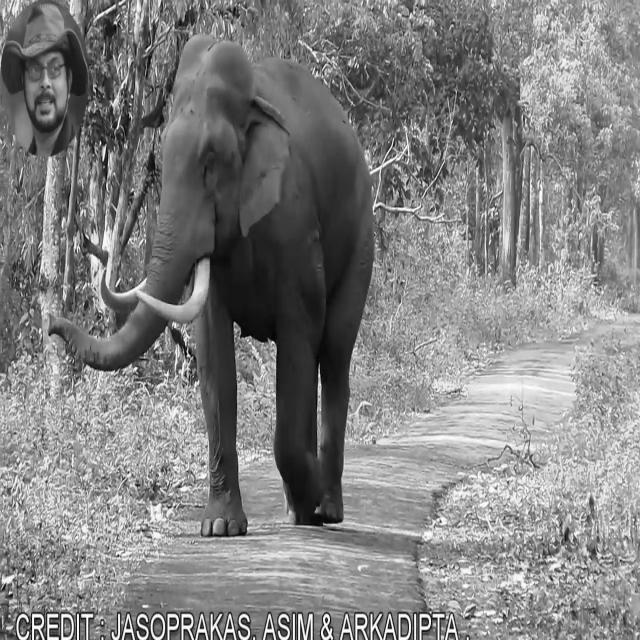ELEPHANT: (46, 26, 377, 541)
